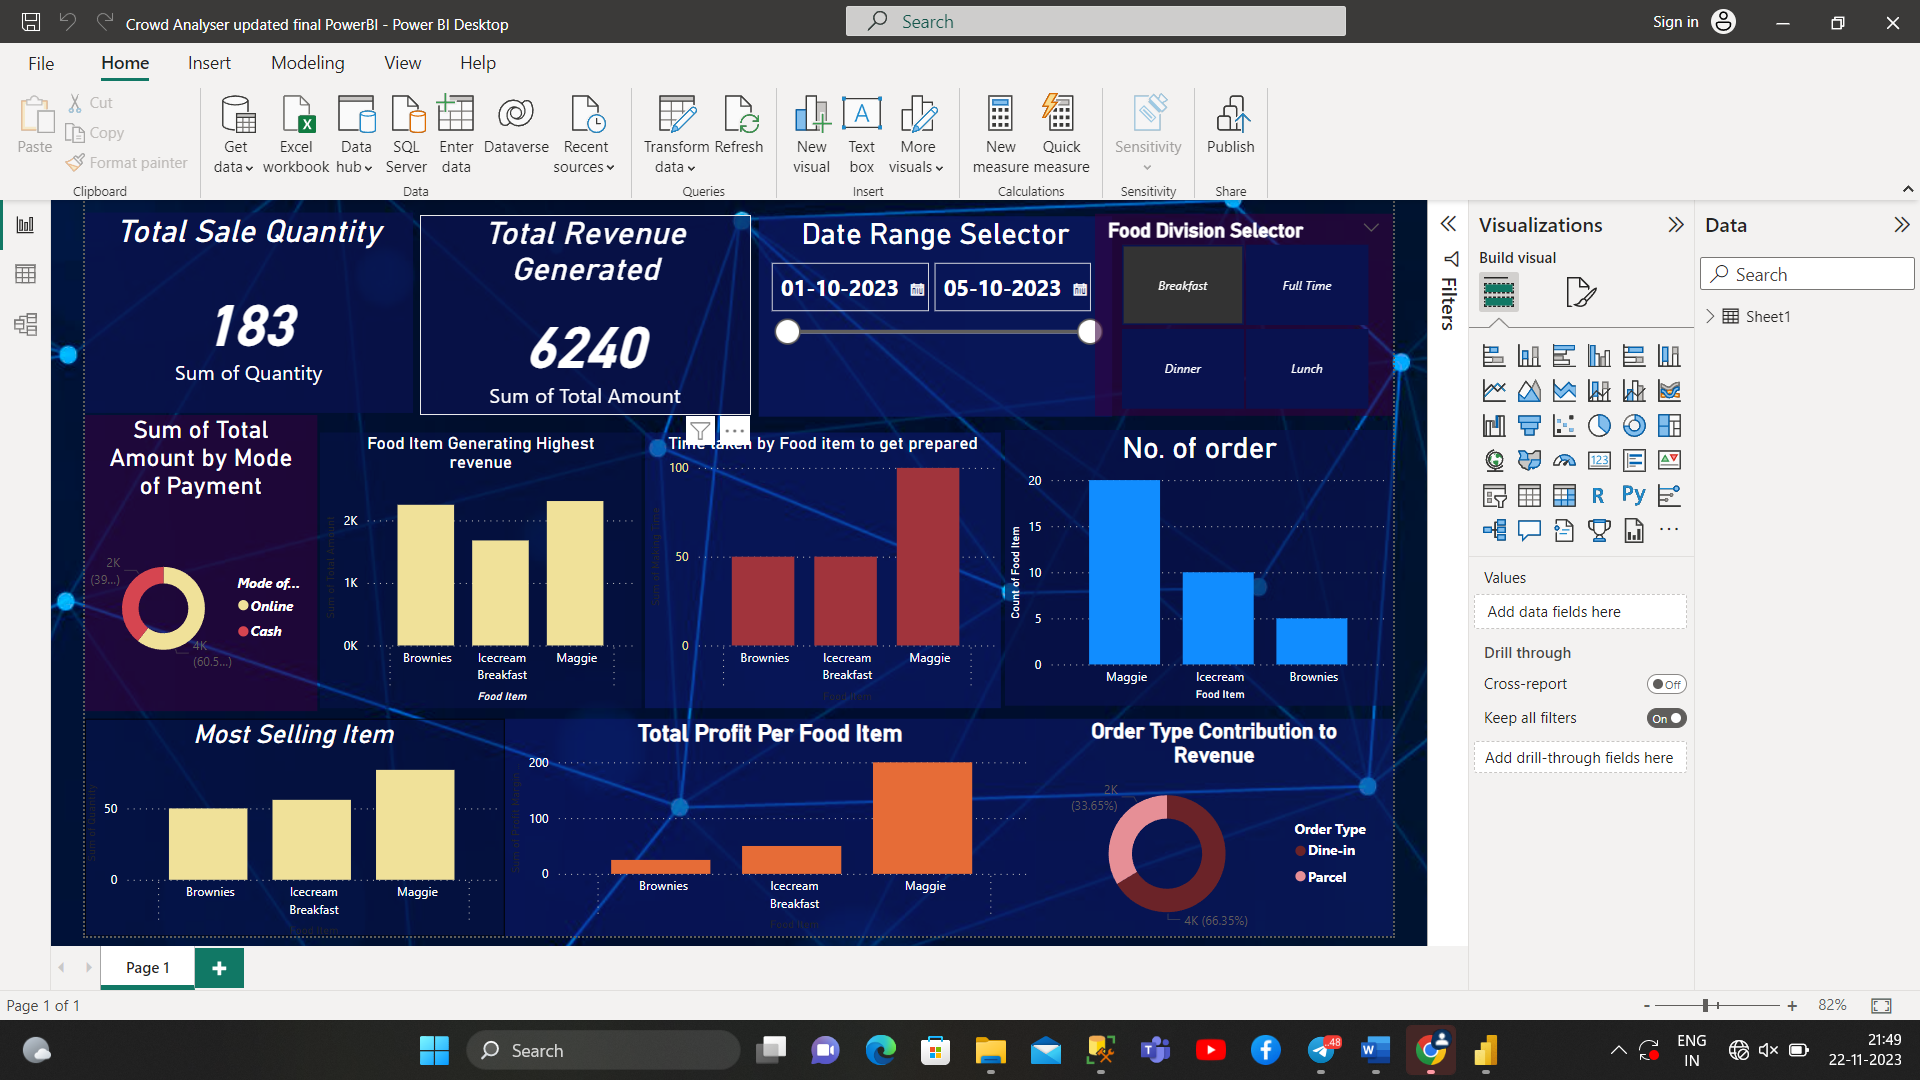

The dashboard page shown, as its layout file describes it:
{"tool":"powerbi","page":{"name":"Page 1","canvas":[1280,720],"ordinal":0},"visuals":[{"type":"card","title":"Total  Sale Quantity","fields":{"Values":["Sum(Sheet1.Quantity)"]},"box":[0,11.7,320.5,196.1],"z":0},{"type":"columnChart","title":"Most Selling Item","fields":{"Category":["Sheet1.Food Division","Sheet1.Food Item"],"Y":["Sum(Sheet1.Quantity)"]},"box":[0,507.7,410.3,212.7],"z":1000},{"type":"columnChart","title":"Food Item Generating Highest revenue","fields":{"Category":["Sheet1.Food Division","Sheet1.Food Item"],"Y":["Sum(Sheet1.Total Amount)"]},"box":[229.8,226.8,314.6,269.3],"z":2000},{"type":"columnChart","title":"Time taken by Food item to get prepared","fields":{"Category":["Sheet1.Food Division","Sheet1.Food Item"],"Y":["Sum(Sheet1.Making Time)"]},"box":[547.3,226.8,348.3,269.3],"z":3000},{"type":"slicer","title":"Date Range Selector","fields":{"Values":["Sheet1.Date"]},"box":[658.5,16.1,345.4,196.1],"z":4000},{"type":"donutChart","title":"Order Type Contribution to Revenue","fields":{"Category":["Sheet1.Order Type"],"Y":["Sum(Sheet1.Total Amount)"]},"box":[929.6,507.4,350.7,213.2],"z":5000},{"type":"donutChart","fields":{"Category":["Sheet1.Mode of Payment"],"Y":["Sum(Sheet1.Total Amount)"]},"box":[0,210.7,226.8,289.8],"z":6000},{"type":"clusteredColumnChart","title":"Total Profit  Per Food Item","fields":{"Category":["Sheet1.Food Division","Sheet1.Food Item"],"Y":["Sum(Sheet1.Profit Margin per Item)"]},"box":[410.3,507.7,518.7,212.7],"z":7000},{"type":"card","title":"Total  Revenue Generated","fields":{"Values":["Sum(Sheet1.Total Amount)"]},"box":[327.8,14.6,323.4,196.1],"z":8000},{"type":"slicer","fields":{"Values":["Sheet1.Food Division"]},"box":[987.8,13.2,291.2,197.6],"z":9000},{"type":"columnChart","title":"No. of order","fields":{"Category":["Sheet1.Food Item"],"Y":["CountNonNull(Sheet1.Food Item)"]},"box":[899.5,225.4,380.5,269.3],"z":10000}]}

Visuals, with their boxes on the page's 1280x720 design canvas (x1, y1, x2, y2). These are canvas units, not pixel positions in the 1920x1080 screenshot, which may show the page scaled, cropped or inside an application window:
"Total  Sale Quantity" card: 0/12/320/208
"Most Selling Item" columnChart: 0/508/410/720
"Food Item Generating Highest revenue" columnChart: 230/227/544/496
"Time taken by Food item to get prepared" columnChart: 547/227/896/496
"Date Range Selector" slicer: 658/16/1004/212
"Order Type Contribution to Revenue" donutChart: 930/507/1280/721
donutChart - Sheet1.Mode of Payment x Sum(Sheet1.Total Amount): 0/211/227/500
"Total Profit  Per Food Item" clusteredColumnChart: 410/508/929/720
"Total  Revenue Generated" card: 328/15/651/211
slicer - Sheet1.Food Division: 988/13/1279/211
"No. of order" columnChart: 900/225/1280/495
